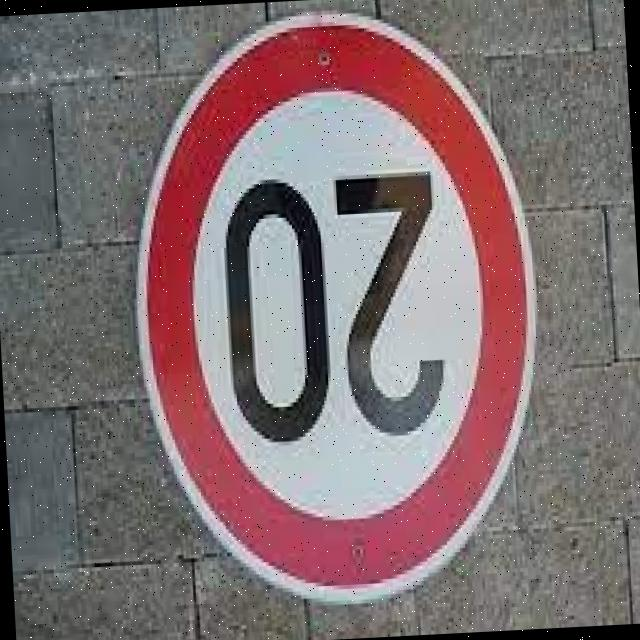speed_limit_20: (116, 0, 555, 614)
